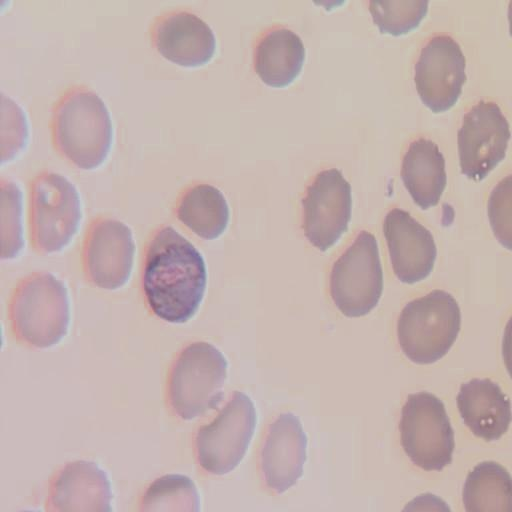Infected: (141, 223, 205, 326)
Uninfected: (194, 392, 254, 477), (56, 85, 113, 172), (26, 169, 82, 256), (299, 165, 353, 253), (330, 230, 384, 318), (381, 203, 437, 287), (167, 340, 226, 419), (400, 390, 454, 476), (11, 270, 69, 350), (399, 289, 460, 365), (149, 9, 219, 69), (83, 215, 139, 289), (459, 100, 508, 182), (416, 33, 466, 112), (261, 412, 309, 491), (456, 376, 512, 443), (401, 135, 446, 209), (253, 23, 304, 86), (179, 179, 229, 242)
